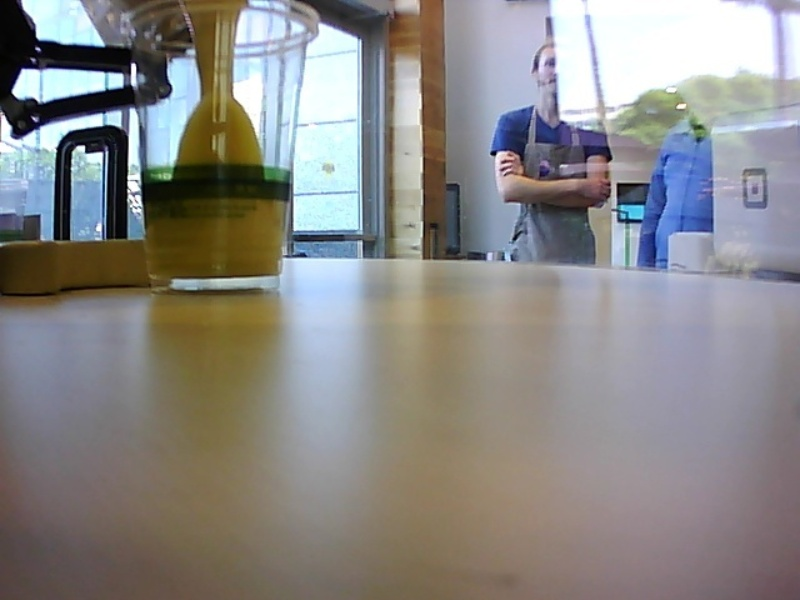cup: (117, 2, 321, 298)
limit: (137, 168, 299, 198)
